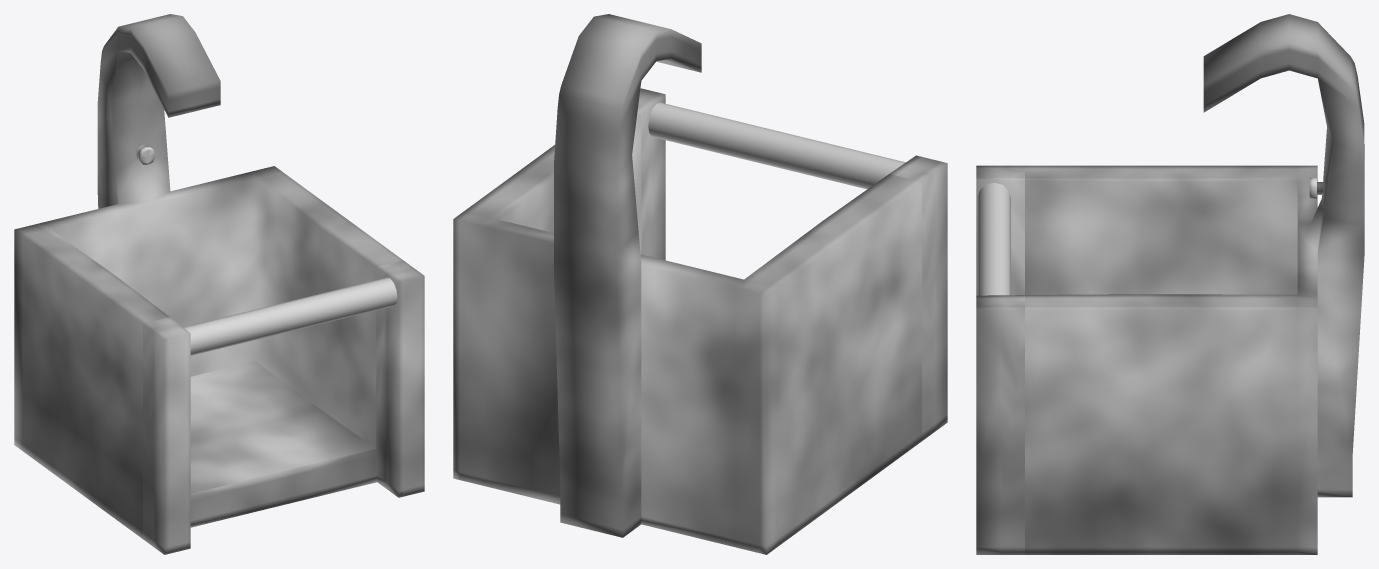
File: KS_Shower.fbx
3 views of the same model, side by side, from view 1: azimuth 30°, elevation 25°; view 2: azimuth 150°, elevation 25°; view 3: azimuth 270°, elevation 25° (orthographic). The views are drawn at different scales.
Parts seen in each view (by area): view 1: KS_SHower; view 2: KS_SHower; view 3: KS_SHower.
Part boxes in pixels (x1,y1,x2,y2): KS_SHower: (14, 14, 424, 554); KS_SHower: (453, 14, 947, 554); KS_SHower: (976, 14, 1364, 554).
Size of the model in its own units: 200 by 294 by 227.
